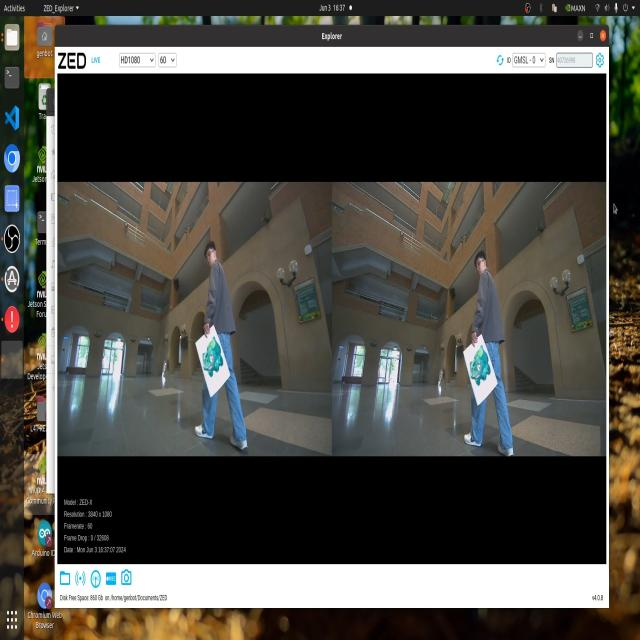green: (469, 342, 494, 388), (205, 333, 227, 379)
